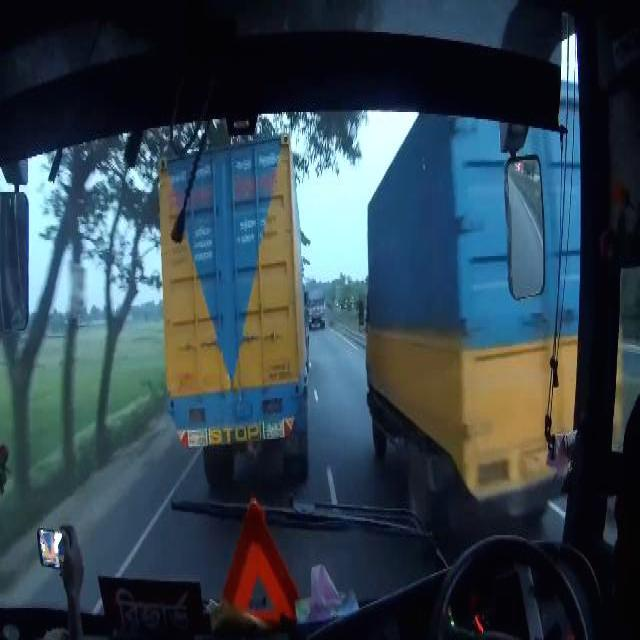TRUCK: (351, 152, 640, 540), (160, 151, 305, 501)
